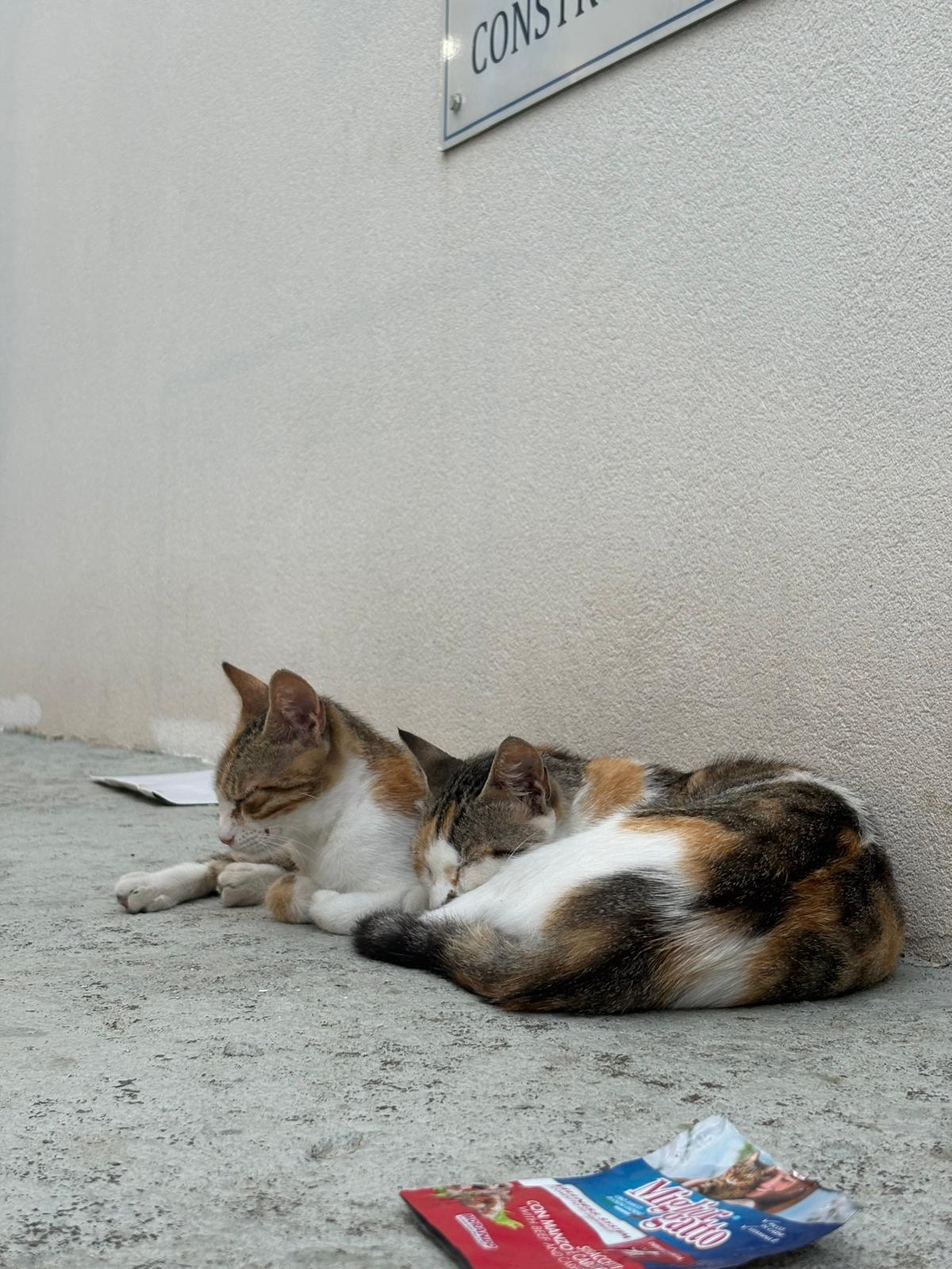macka: (358, 728, 915, 1013), (114, 660, 428, 933)
